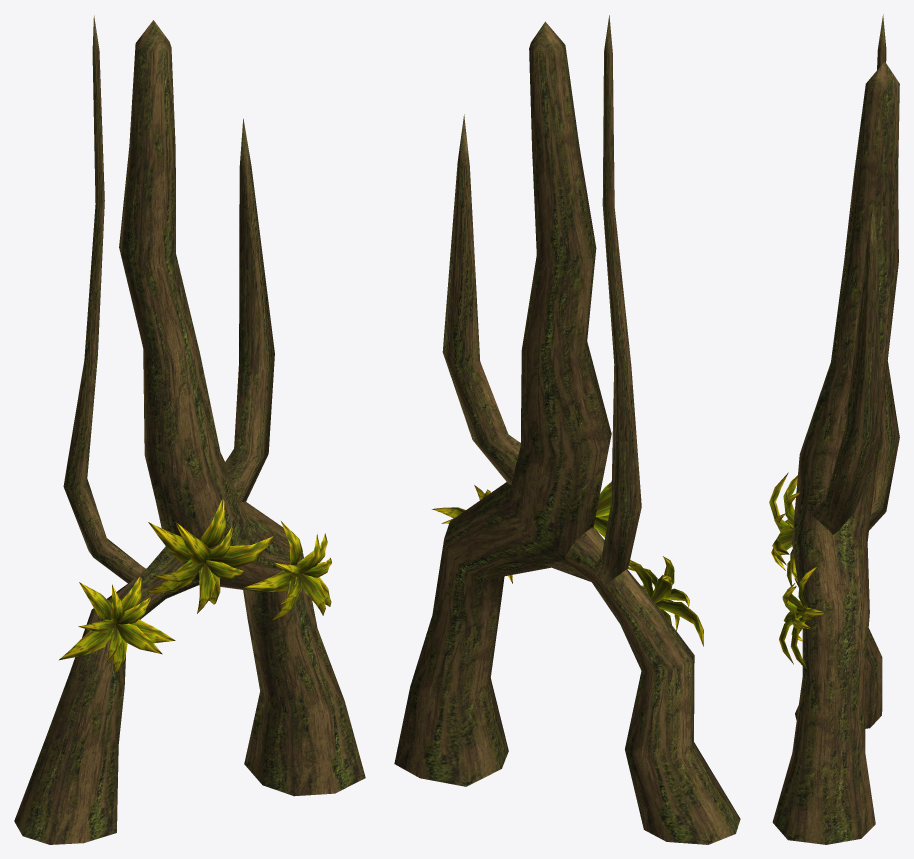
The model's file is Trap_Wood03.FBX.
3 views of the same model, side by side, from view 1: azimuth 30°, elevation 25°; view 2: azimuth 150°, elevation 25°; view 3: azimuth 270°, elevation 25° (orthographic). The views are drawn at different scales.
Parts seen in each view (by area): view 1: Wood, Weeds01, Weeds00, Weeds02; view 2: Wood, Weeds00; view 3: Wood, Weeds02, Weeds01.
Part boxes in pixels (x1=…): Wood: x1=14, y1=15, x2=365, y2=844; Weeds01: x1=147, y1=496, x2=275, y2=613; Weeds00: x1=59, y1=576, x2=175, y2=672; Weeds02: x1=242, y1=521, x2=331, y2=621; Wood: x1=394, y1=15, x2=740, y2=844; Weeds00: x1=627, y1=556, x2=703, y2=646; Wood: x1=772, y1=14, x2=899, y2=844; Weeds02: x1=779, y1=565, x2=825, y2=671; Weeds01: x1=769, y1=472, x2=800, y2=581.
Bounding box in the file's own units: 1241 × 2826 × 461.
